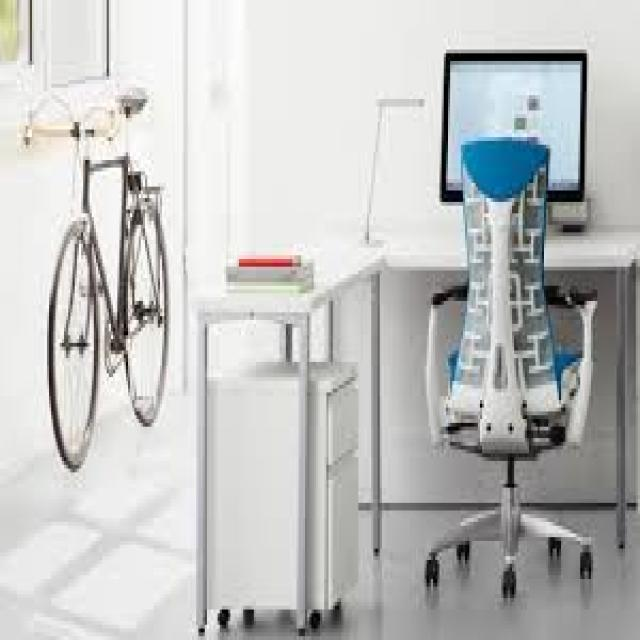chair: (397, 130, 609, 635)
